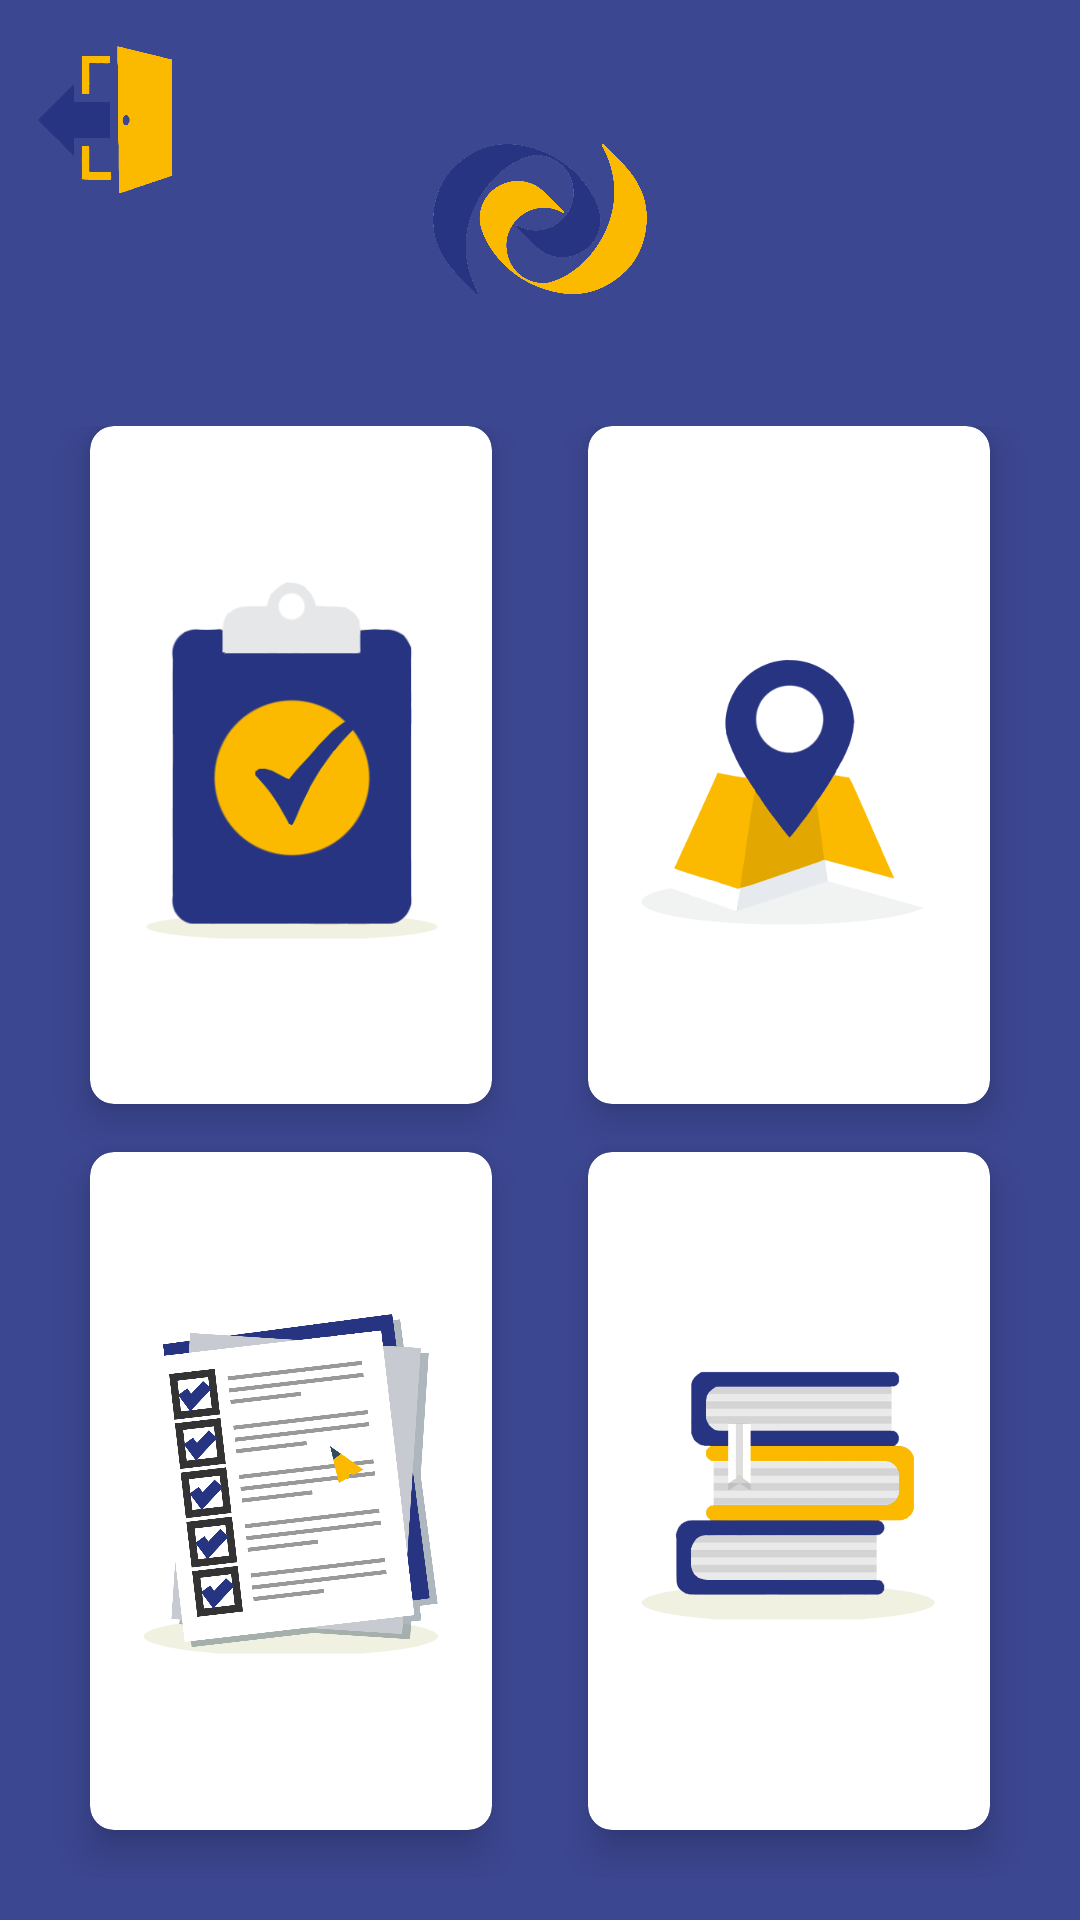

Locate icon controls on the screen. Image size 1080 x 1920, boxes as rect(x1, y1, x2, y2).
asistencia: rect(147, 583, 437, 938)
biblioteca: rect(642, 1372, 934, 1619)
examen: rect(144, 1314, 438, 1653)
maps: rect(674, 660, 895, 910)
